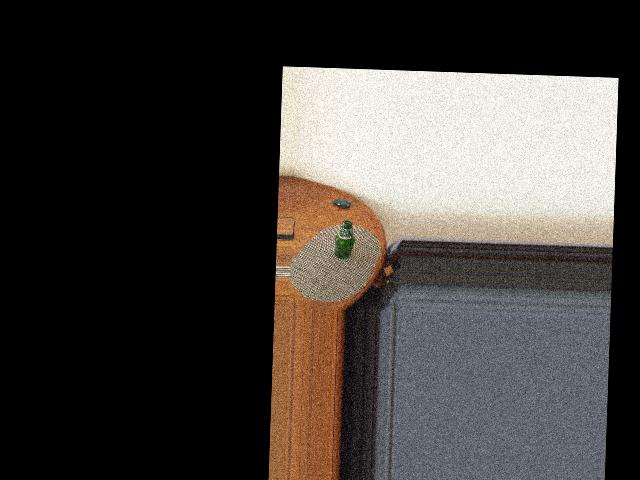beer: (333, 219, 356, 259)
